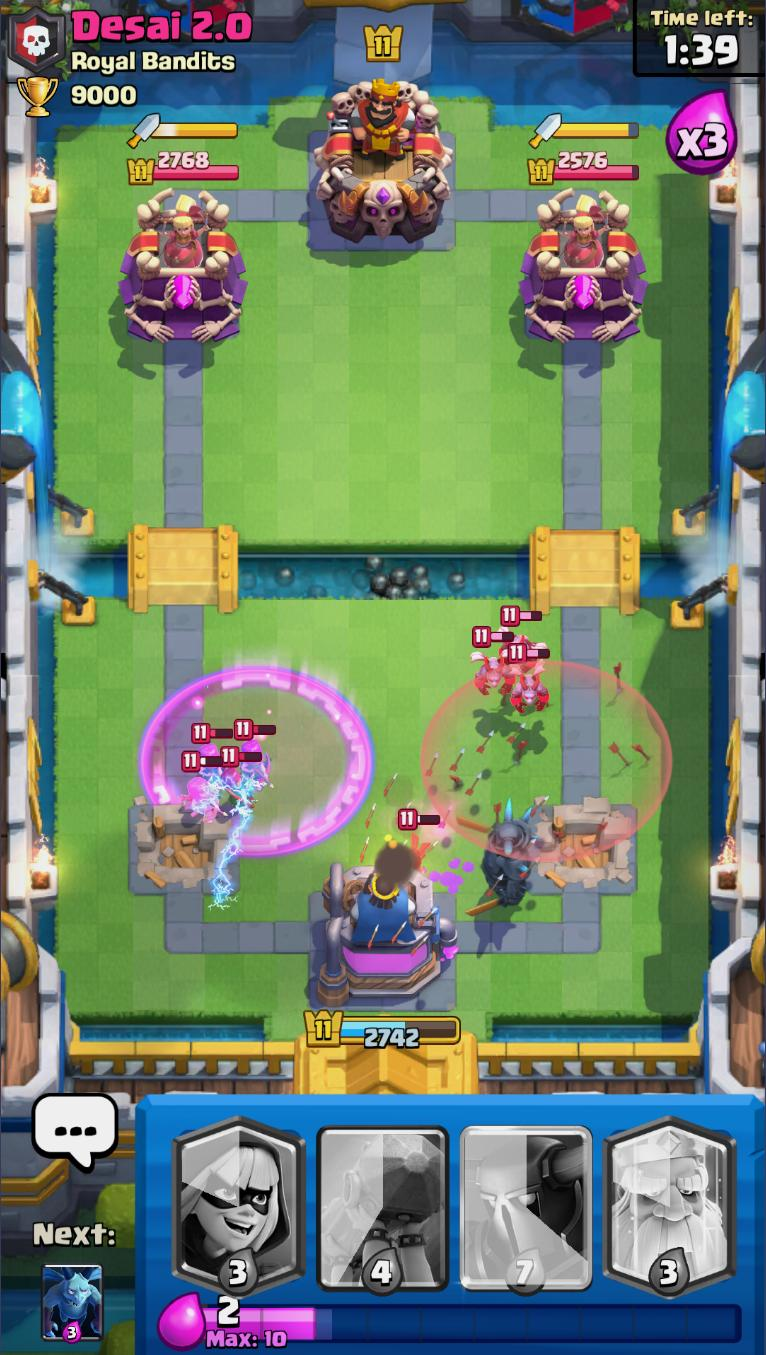Archer: (214, 744, 260, 811), (180, 747, 226, 813), (234, 719, 277, 786), (190, 713, 231, 763)
Arrows: (423, 659, 674, 863)
BanditDeck: (166, 1097, 314, 1297)
BattleRamDeck: (309, 1097, 453, 1291)
DaggerDuchess: (157, 197, 214, 269), (557, 194, 610, 269)
Daggers: (124, 113, 241, 150), (527, 113, 641, 146)
Elixir: (210, 1293, 749, 1351)
EnemyTower: (516, 189, 649, 349), (119, 184, 249, 347)
KingTower: (314, 76, 456, 246)
Minion: (470, 623, 520, 697), (496, 604, 549, 673), (507, 641, 553, 716)
MinionsNext: (39, 1263, 104, 1343)
MyKingHP: (304, 1010, 461, 1051)
MyKingTower: (311, 856, 461, 1009)
MyPekka: (456, 797, 540, 920)
MyPrincessTowerBrocken: (124, 797, 246, 899), (526, 799, 640, 893)
PekkaDeck: (453, 1097, 599, 1293)
Rage: (137, 667, 376, 851)
RoyaleGhostDeck: (597, 1097, 741, 1297)
TowerPrincessHP: (526, 147, 641, 187), (127, 150, 243, 187)
